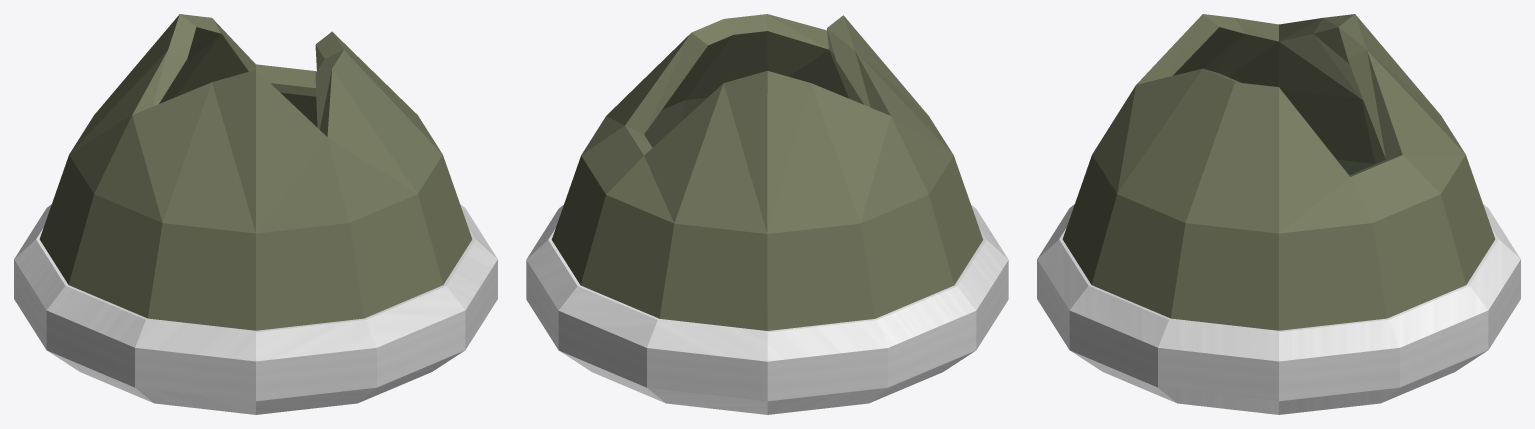
Rendered from broken_beacon_a.obj.
The picture shows the model from 3 angles, left to right: view 1: azimuth 30°, elevation 25°; view 2: azimuth 150°, elevation 25°; view 3: azimuth 270°, elevation 25°; orthographic projection.
Parts seen in each view (by area): view 1: broken_beacon_a; view 2: broken_beacon_a; view 3: broken_beacon_a.
Boxes of the visible parts, box(x1,y1,x2,y2) form: broken_beacon_a: box(14, 14, 497, 414); broken_beacon_a: box(526, 14, 1008, 414); broken_beacon_a: box(1037, 14, 1520, 414).
Bounding box in the file's own units: 0.88 × 0.595 × 0.88.
